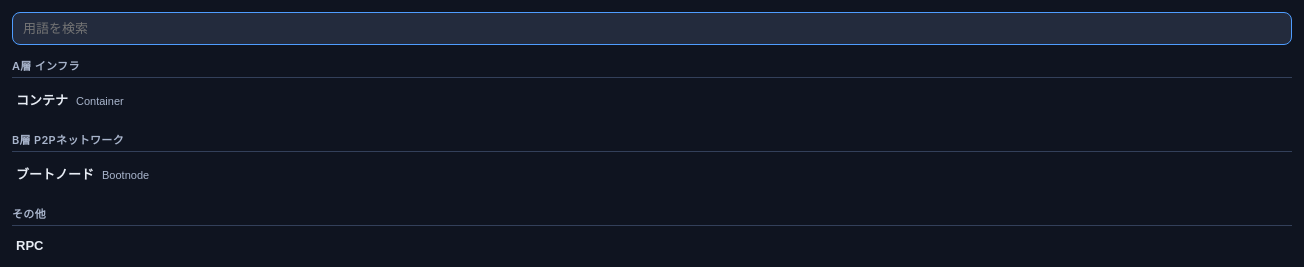
GlossaryPanelView: search (Issue #313 UX設計 §3.6) › shows the empty-state message when nothing matches
Type "no-such-term-anywhere" into the search field with test id "glossary-panel-search".
click(652, 28); type("no-such-term-anywhere")  # box [12,12,1292,45]
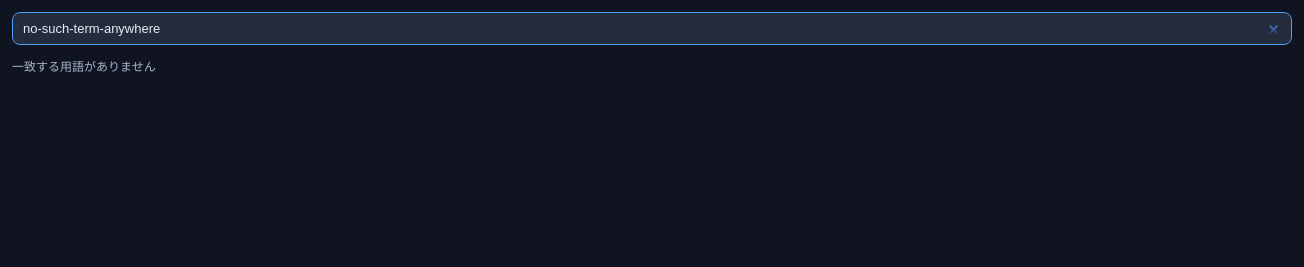
Now the text with test id "glossary-panel-empty" reads "一致する用語がありません", box [12,59,156,74]
